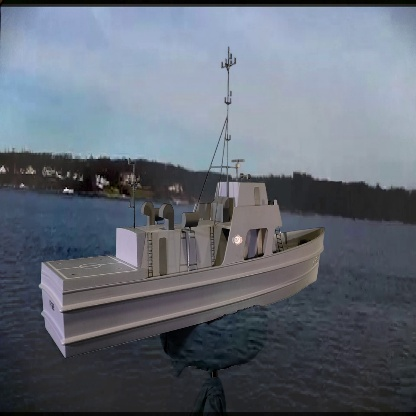YP689: (42, 41, 325, 366)
